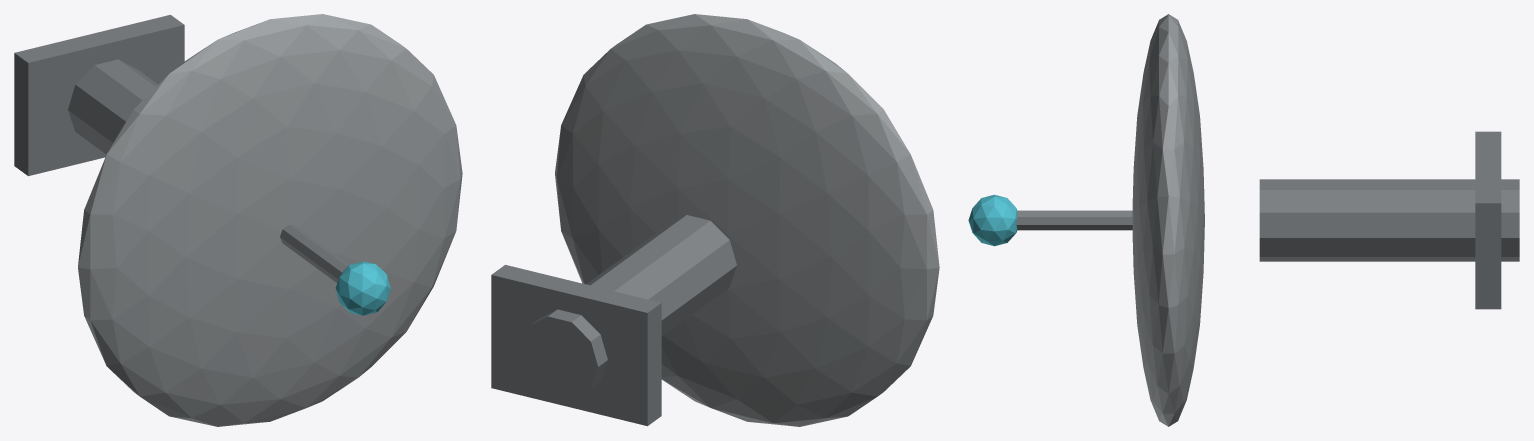
Rendered from satellite_dish.glb.
The picture shows the model from 3 angles, left to right: view 1: azimuth 30°, elevation 25°; view 2: azimuth 150°, elevation 25°; view 3: azimuth 270°, elevation 25°; orthographic projection. The views are drawn at different scales.
Visible parts, largest first — view 1: satellite_dish_2, satellite_dish_1, satellite_dish_0, satellite_dish_4, satellite_dish_3; view 2: satellite_dish_2, satellite_dish_1, satellite_dish_0; view 3: satellite_dish_2, satellite_dish_0, satellite_dish_1, satellite_dish_3, satellite_dish_4.
Boxes of the visible parts, bbox=[...] form: satellite_dish_2: bbox=[78, 14, 462, 426]; satellite_dish_1: bbox=[14, 14, 184, 176]; satellite_dish_0: bbox=[68, 59, 158, 154]; satellite_dish_4: bbox=[335, 261, 390, 315]; satellite_dish_3: bbox=[280, 224, 348, 282]; satellite_dish_2: bbox=[555, 14, 939, 426]; satellite_dish_1: bbox=[491, 264, 661, 426]; satellite_dish_0: bbox=[521, 215, 736, 398]; satellite_dish_2: bbox=[1132, 14, 1204, 426]; satellite_dish_0: bbox=[1259, 179, 1519, 261]; satellite_dish_1: bbox=[1475, 131, 1501, 309]; satellite_dish_3: bbox=[1016, 210, 1132, 230]; satellite_dish_4: bbox=[968, 194, 1017, 246].
Bounding box in the file's own units: 1.6 × 1.6 × 2.12.
